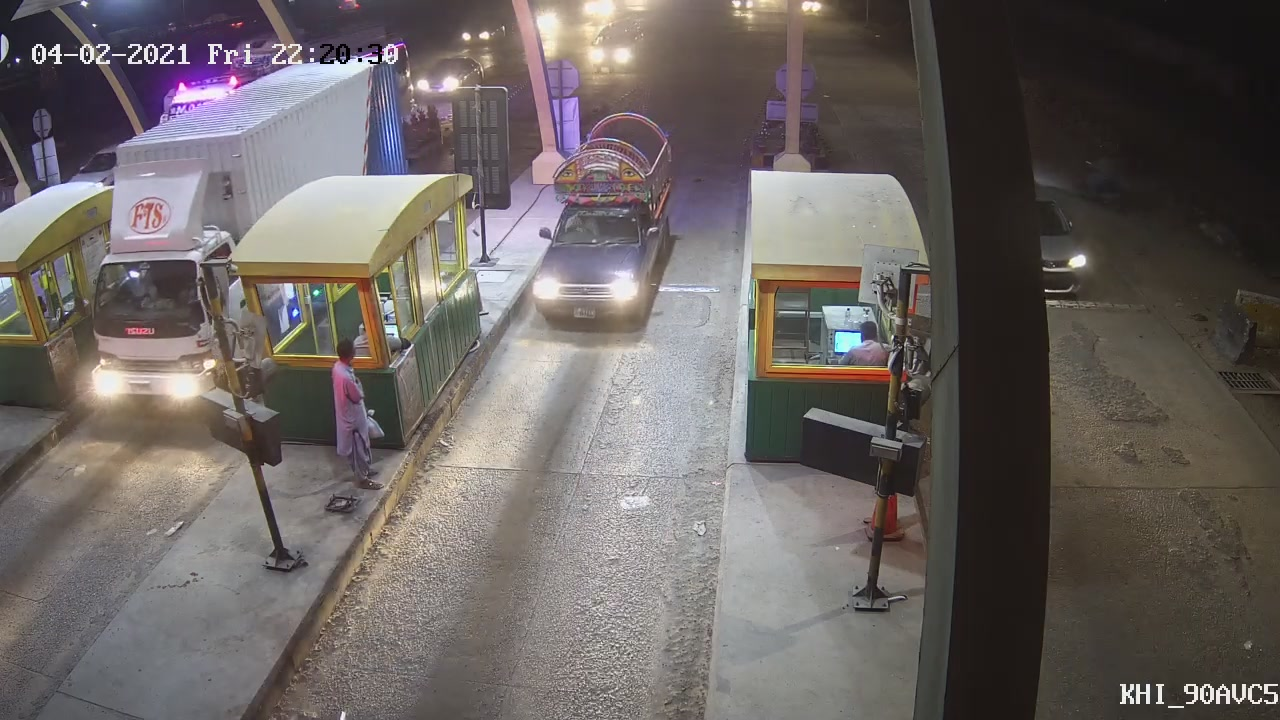F1: (519, 114, 676, 326)
